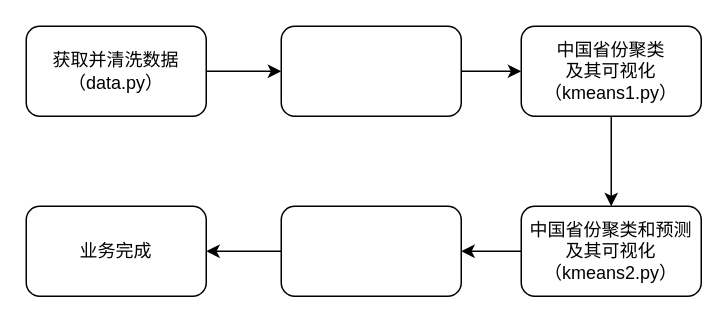
This 728x323 diagram has some shape labels left out. Here are the shapes that lost their labels. From the top down, the centre of each, then its label:
point (370, 70): 世界城市聚类 及其可视化 （kmeans0.py）
point (370, 250): ai模块智能分析 （ai_mod.py）
